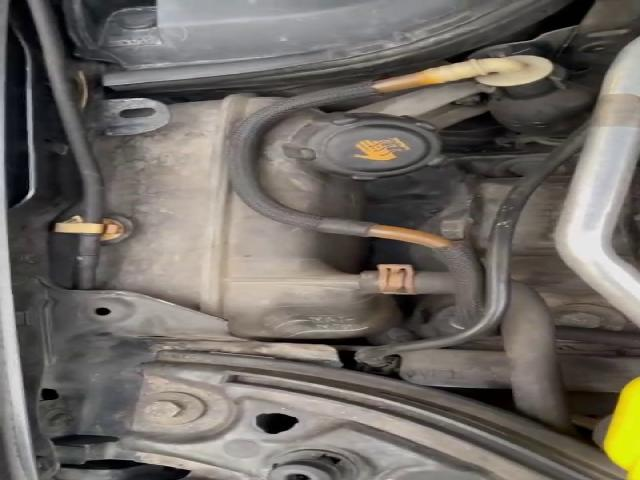antifreeze_tank: (93, 95, 398, 338), (261, 111, 442, 219)
